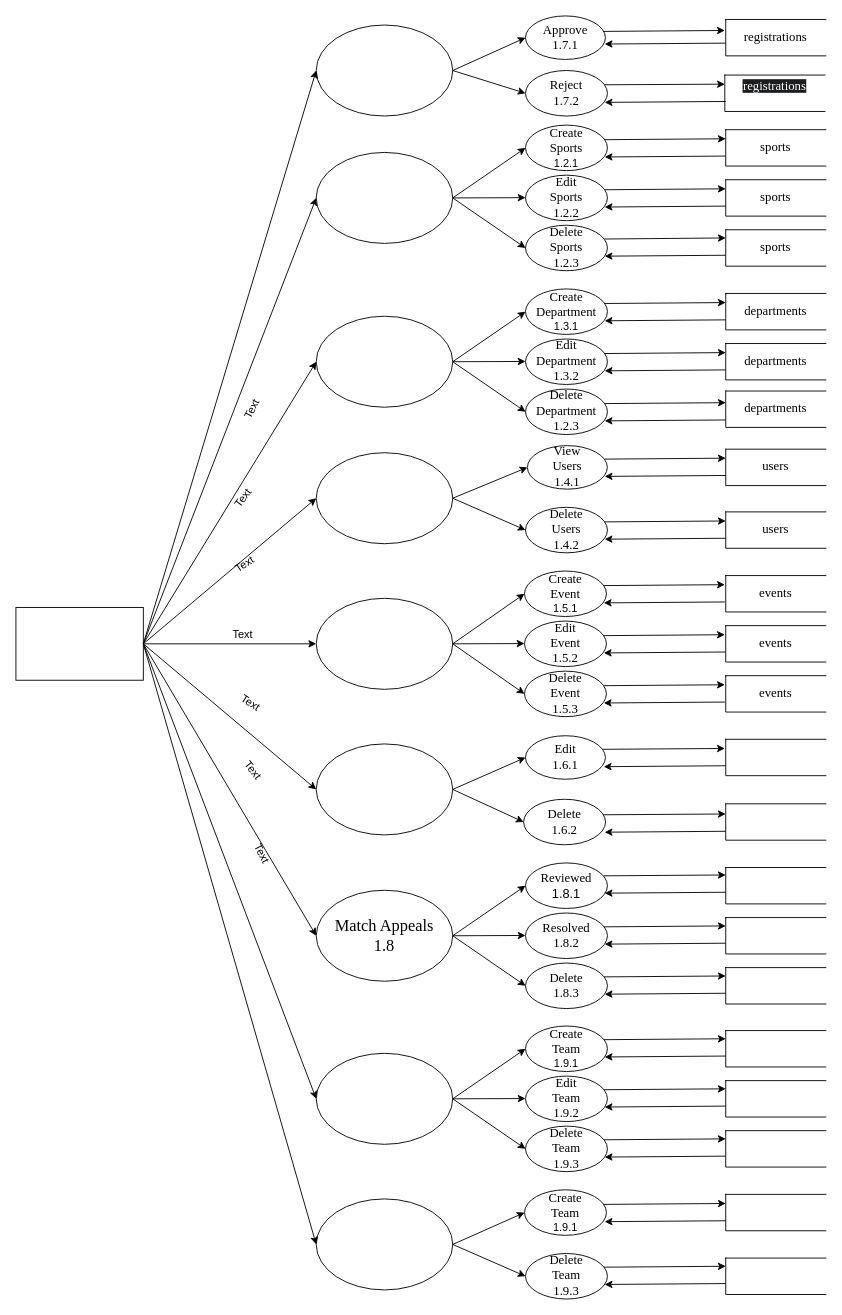
This 842x1315 diagram has some shape labels left out. The shapes that lost their labels are listed below. From the top down, each one's box as (x1, y1, x2, y2) in pixels, then its label:
(315, 24, 453, 116): Registrations 1.7
(315, 152, 453, 243): Manage Sports 1.2
(315, 315, 453, 407): Department Management 1.3
(315, 452, 453, 544): User Management 1.4
(15, 607, 143, 680): Admin
(315, 597, 453, 689): Event Management 1.5
(315, 743, 453, 835): Upcmming Matches 1.6
(315, 1052, 453, 1144): Team Management 1.9
(315, 1198, 453, 1290): Score Management 1.10
